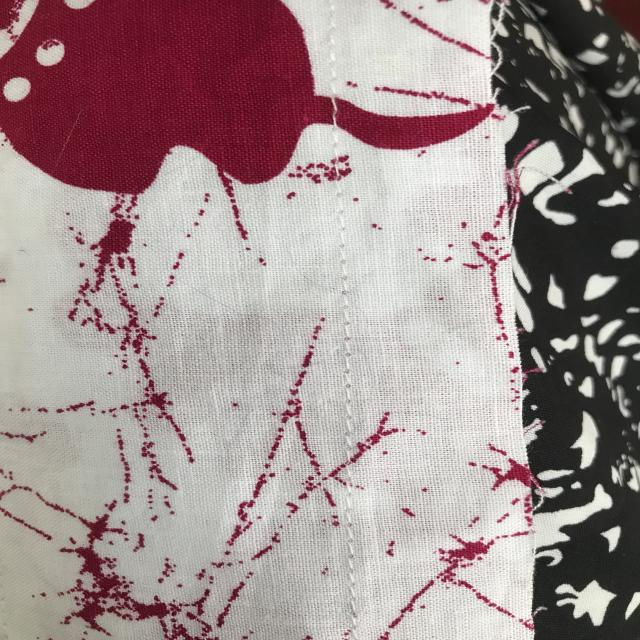good: (320, 273, 370, 433), (334, 512, 374, 618)
